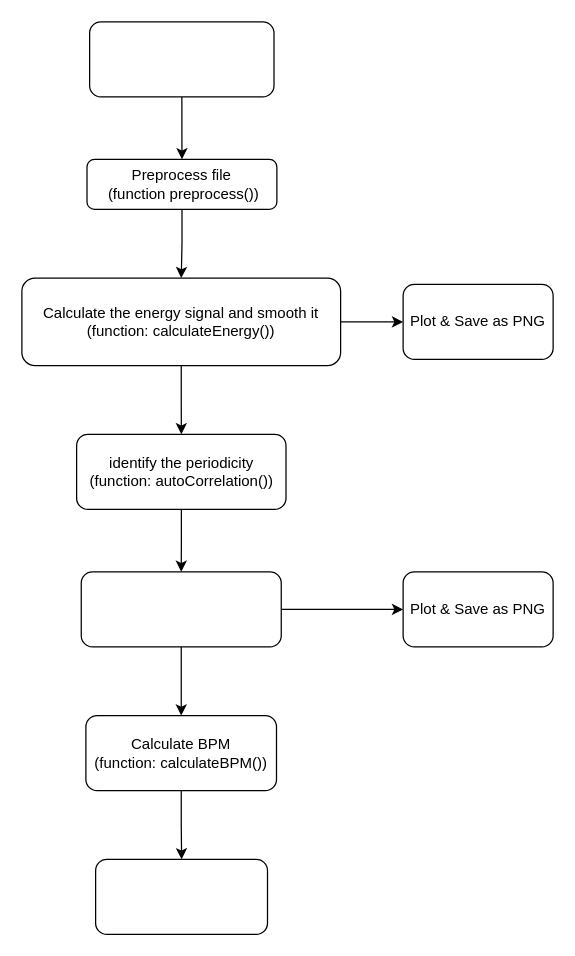
Image size: 575x956. Some labels were removed from this diagram. The centre of each missing label's shape, as x and y in pixels:
Detect peaks (function: detectPeaks()): [180,609]
Display estimated BPM: [181,896]
Read WAV-file (function audioread()): [181,59]
